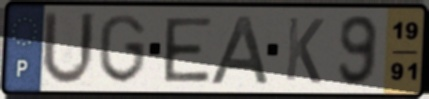9: (337, 13, 381, 89)
A: (207, 13, 274, 87)
E: (162, 15, 215, 85)
G: (97, 12, 148, 86)
K: (283, 14, 327, 86)
U: (38, 8, 98, 88)
